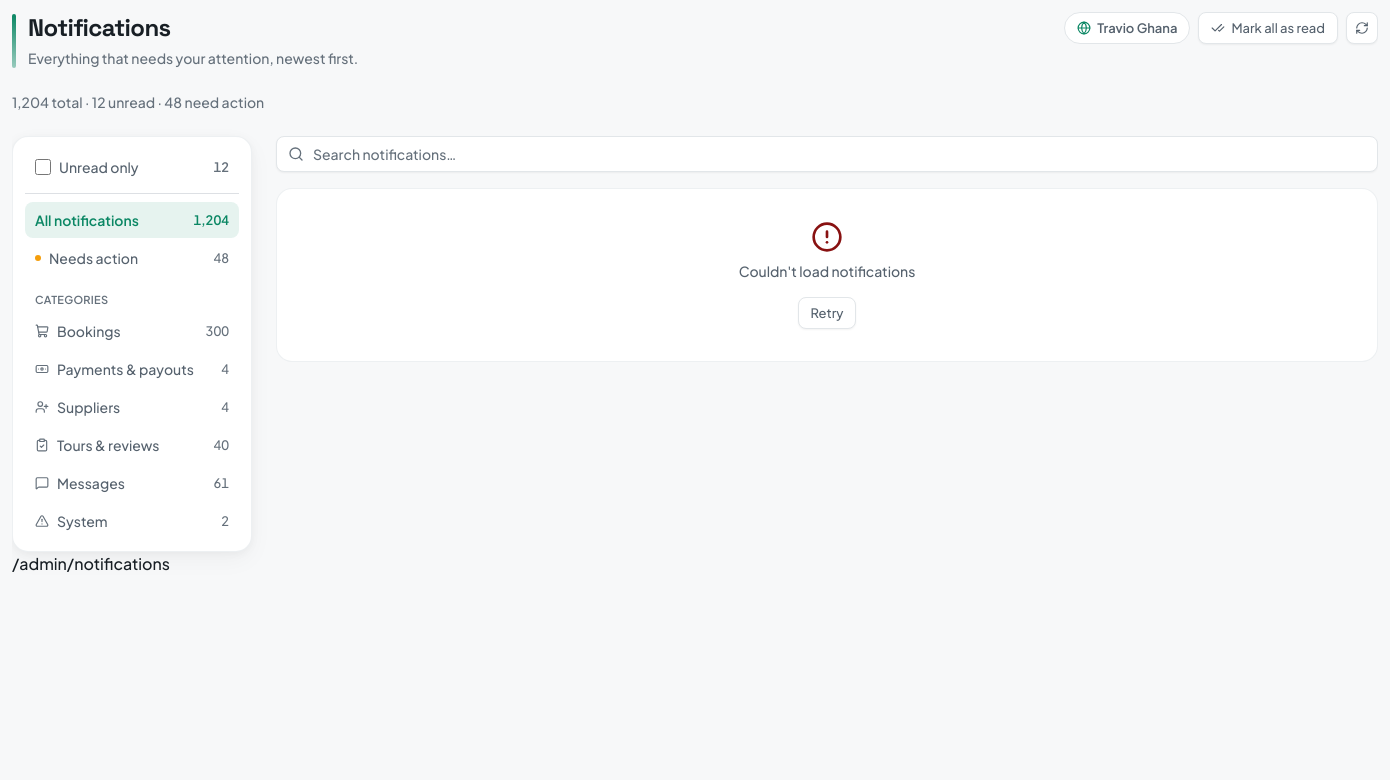
Test case: NotificationsPage › recovers from a failed load
Expected: the text "Couldn't load notifications" is shown, x1=739 y1=261 x2=915 y2=281
Click the button "Retry" at {"x": 827, "y": 313}, box x1=798 y1=297 x2=856 y2=329
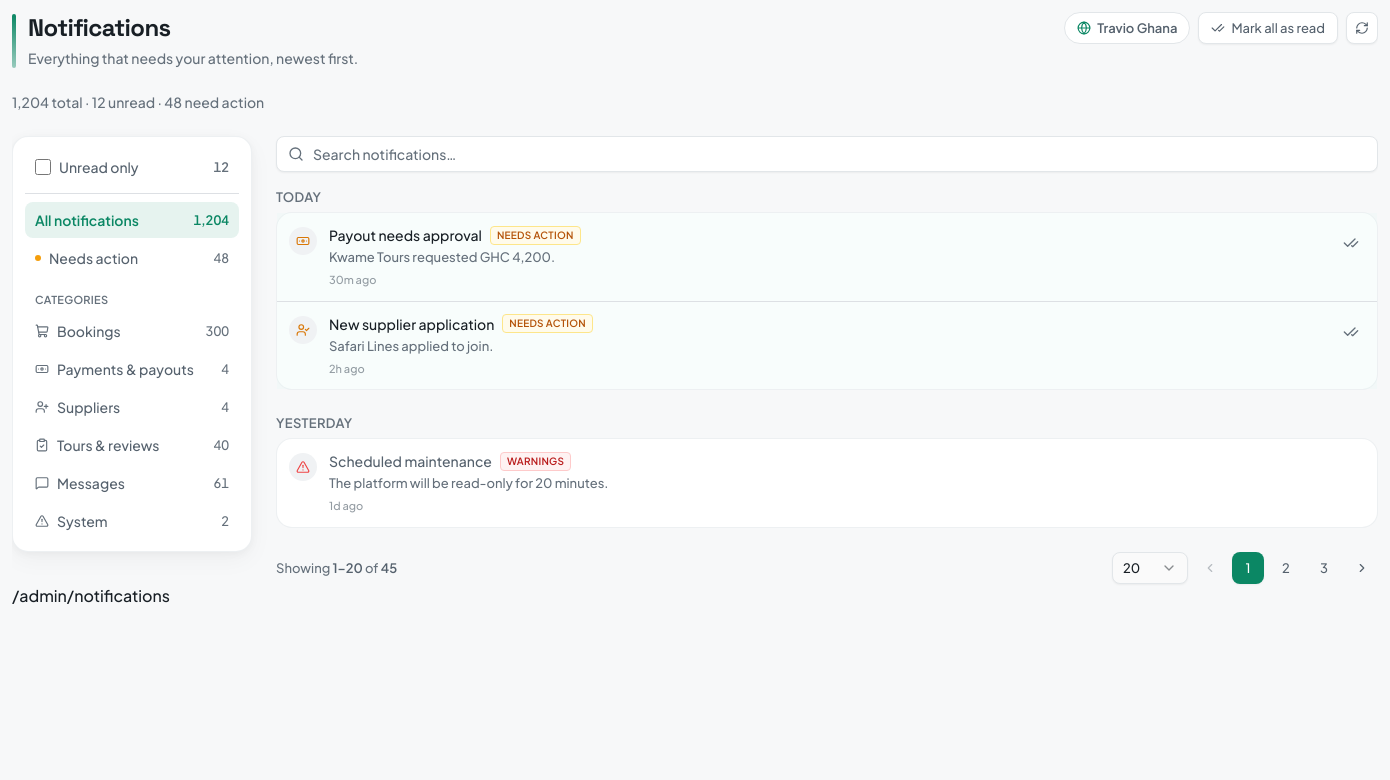
Expected: the text "Payout needs approval" is shown, x1=329 y1=225 x2=482 y2=245
